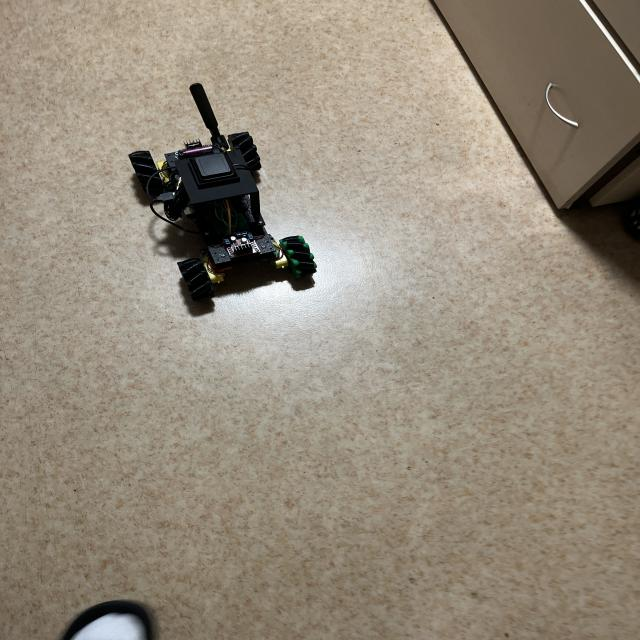robot: (129, 83, 316, 300)
